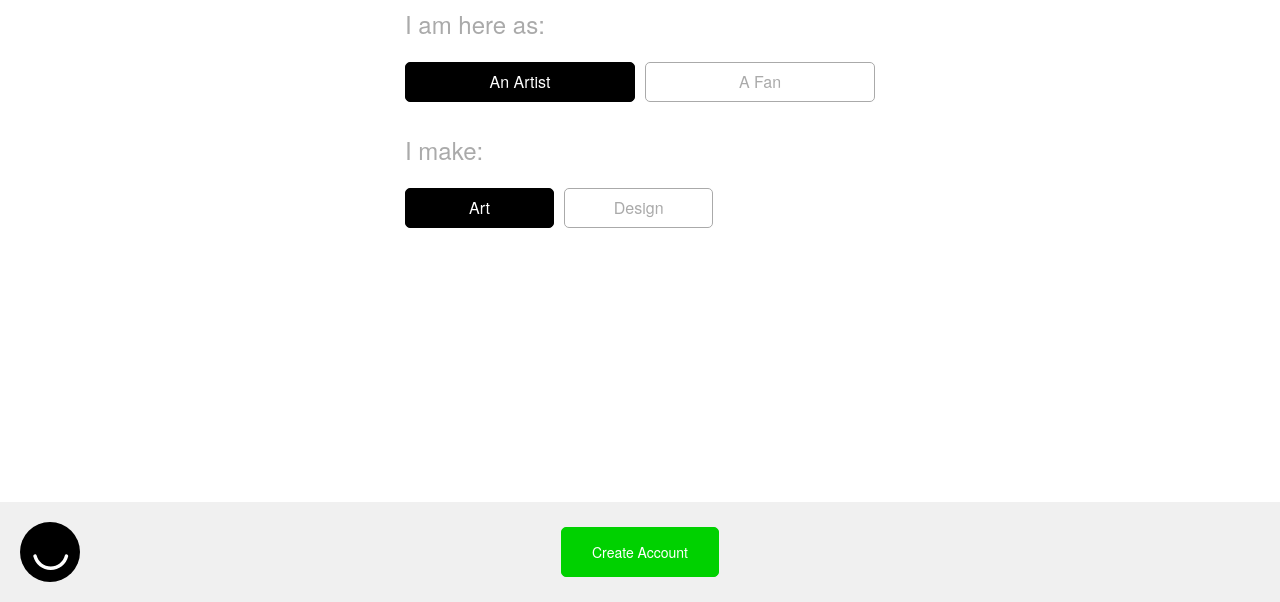
Scenario: CreatorTypeStep › a fan has no categories
Click the button "A Fan": (760, 82) [645,62,875,102]
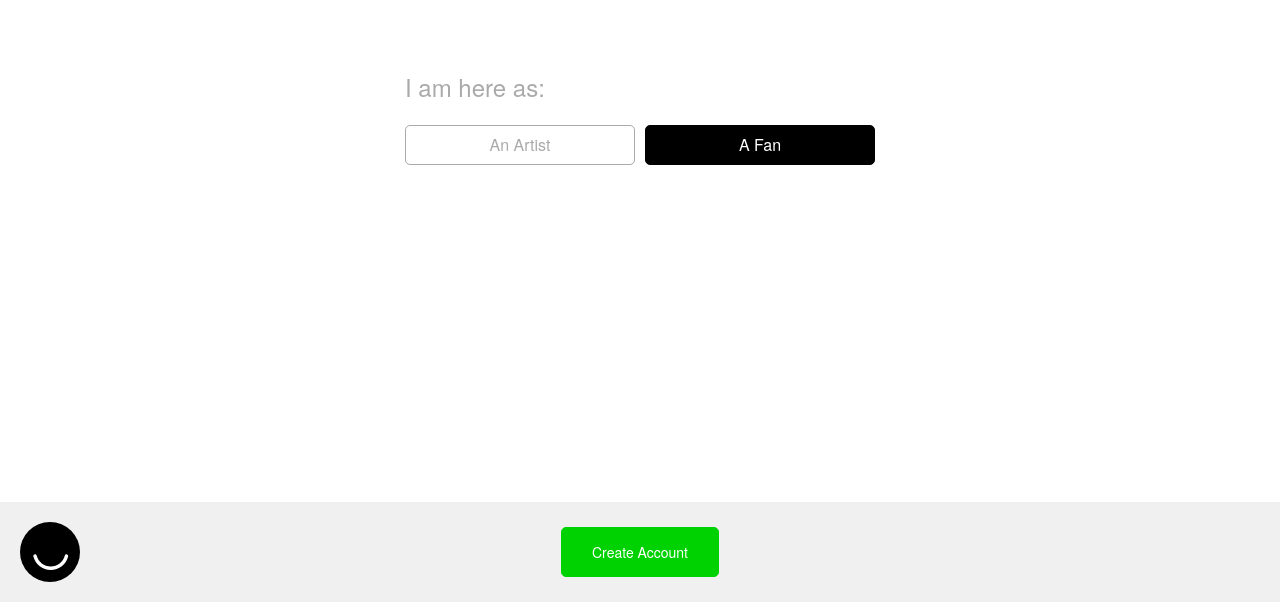
Now the heading "I make:" is gone
Now the button "A Fan" is disabled, box [645,125,875,165]
